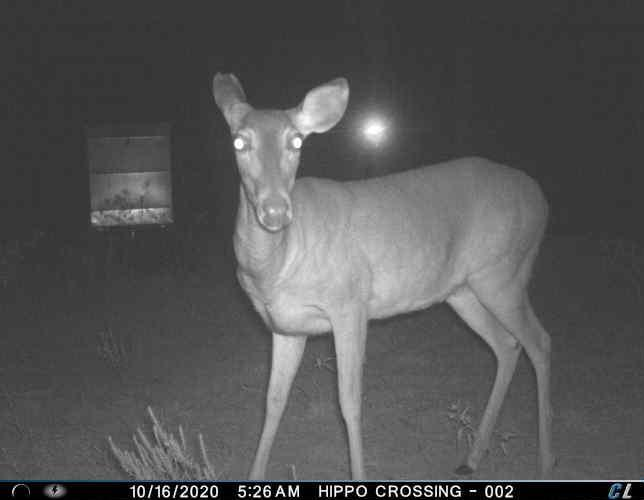Deer: (210, 67, 558, 483)
